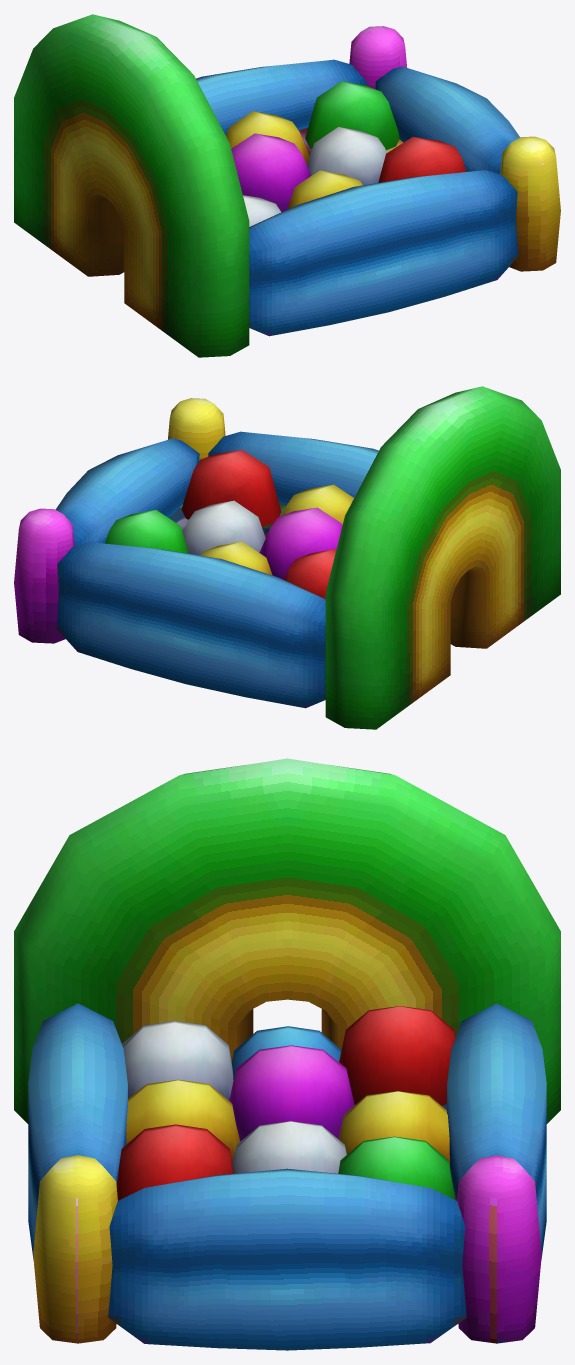
The model's file is int_bal_bedW.dae.
The picture shows the model from 3 angles, top to bottom: view 1: azimuth 30°, elevation 25°; view 2: azimuth 150°, elevation 25°; view 3: azimuth 270°, elevation 25°; orthographic projection. The views are drawn at different scales.
Visible parts, largest first — view 1: int_bal_bedW; view 2: int_bal_bedW; view 3: int_bal_bedW.
Boxes of the visible parts, <box> form: int_bal_bedW: <box>14,14,560,357</box>; int_bal_bedW: <box>14,386,560,729</box>; int_bal_bedW: <box>14,758,560,1350</box>.
Size of the model in its own units: 60.19 by 38.3 by 54.
2 materials, 2 textured.
